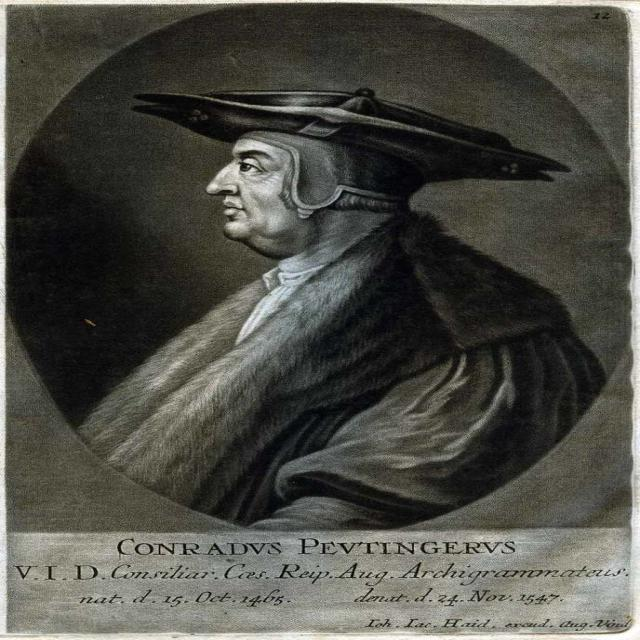Hat: (135, 90, 577, 182)
